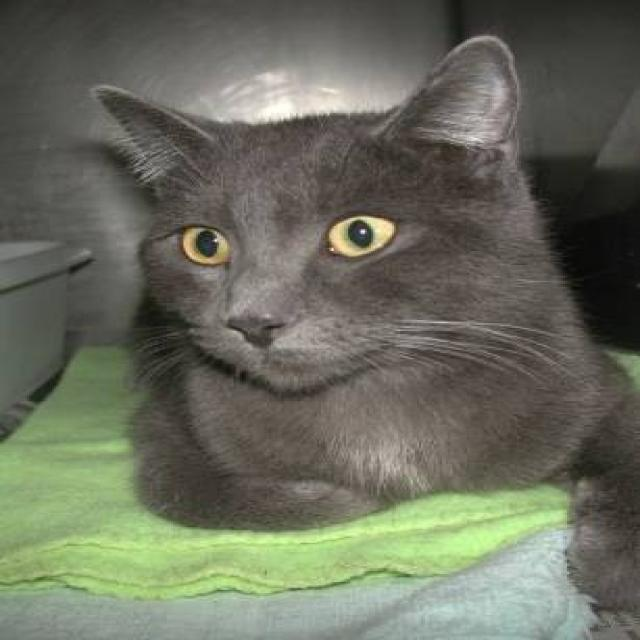cat: (87, 33, 638, 637)
